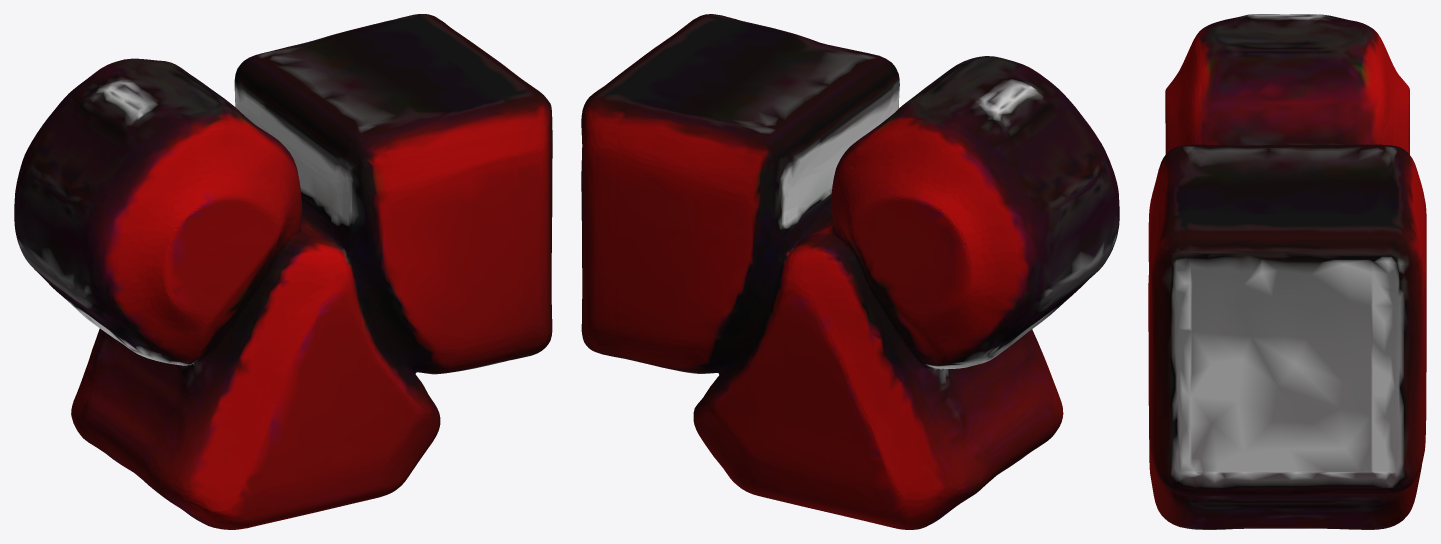
Rendered from garnet.glb.
The picture shows the model from 3 angles, left to right: view 1: azimuth 30°, elevation 25°; view 2: azimuth 150°, elevation 25°; view 3: azimuth 270°, elevation 25°; orthographic projection.
Visible parts, largest first — view 1: geometry_0; view 2: geometry_0; view 3: geometry_0.
Part boxes in pixels (x1,y1,x2,y2): geometry_0: (14,14,552,529); geometry_0: (581,14,1119,529); geometry_0: (1148,14,1426,529).
Bounding box in the file's own units: 0.6694 × 0.5938 × 0.3594.
